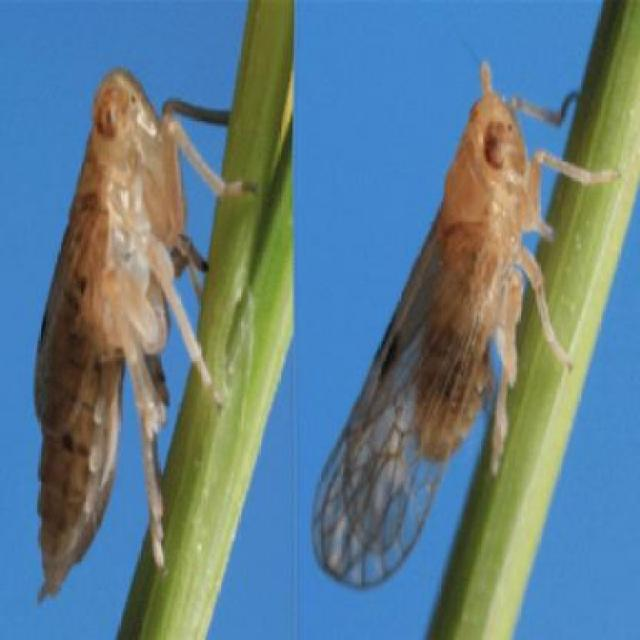brown-planthopper: (310, 63, 552, 591), (30, 67, 204, 602)
